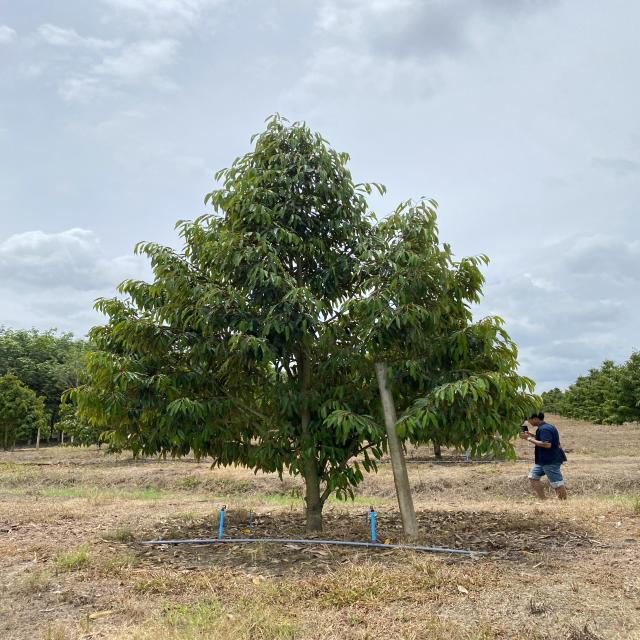Tree: (79, 102, 507, 506)
